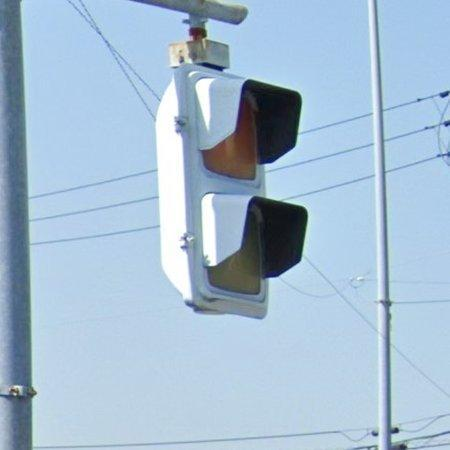traffic lights: (155, 62, 309, 323)
